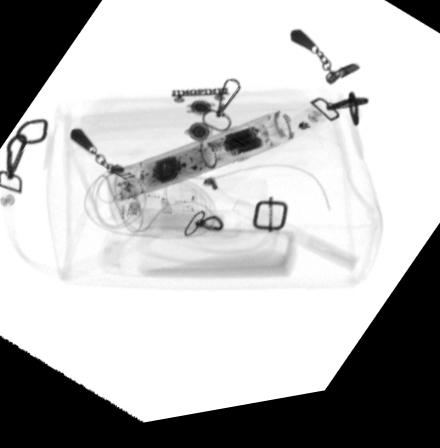Baton: (108, 119, 296, 209)
